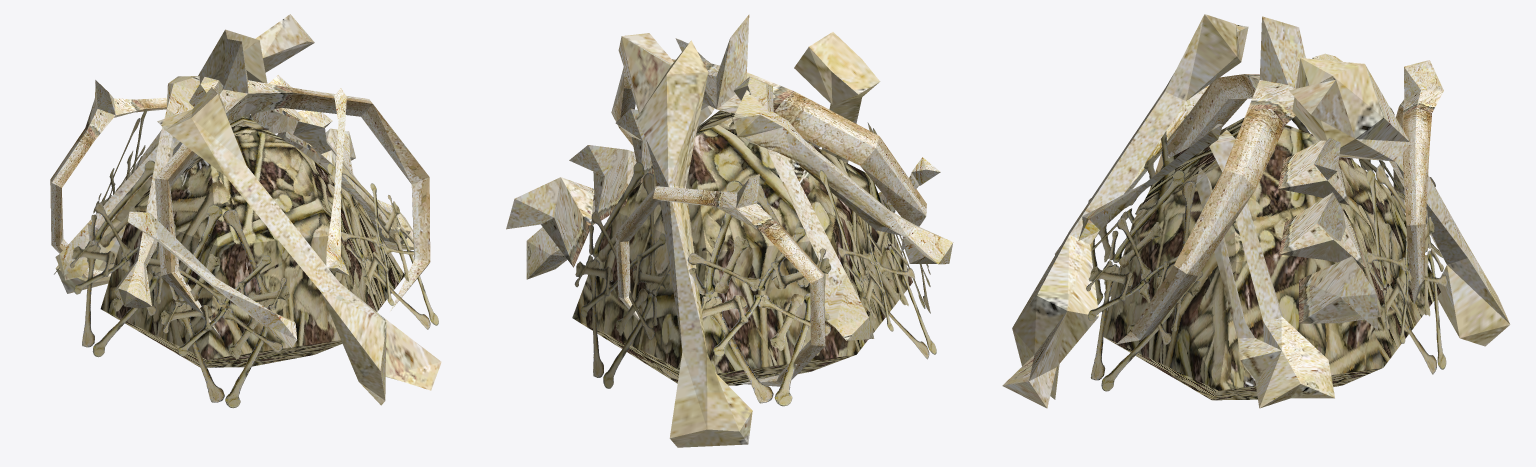
File: poi_all_lair_bones_large_l1.fbx
The picture shows the model from 3 angles, left to right: view 1: azimuth 30°, elevation 25°; view 2: azimuth 150°, elevation 25°; view 3: azimuth 270°, elevation 25°; orthographic projection. The views are drawn at different scales.
Parts seen in each view (by area): view 1: mesh_node; view 2: mesh_node; view 3: mesh_node.
Boxes of the visible parts, x1=… form: mesh_node: x1=50, y1=14, x2=441, y2=408; mesh_node: x1=506, y1=14, x2=953, y2=447; mesh_node: x1=1002, y1=14, x2=1510, y2=408.
Size of the model in its own units: 6.72 by 5.65 by 7.04.
